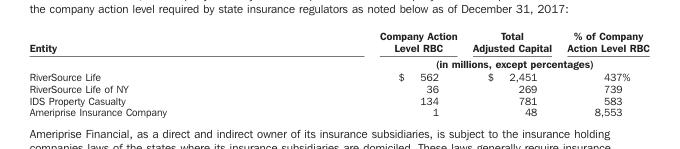table: (28, 28, 648, 117)
table column: (28, 28, 272, 117), (272, 28, 464, 117), (464, 28, 558, 117), (558, 28, 648, 117)
table column header: (28, 28, 648, 70)
table row: (28, 28, 648, 55), (28, 55, 648, 70), (28, 70, 648, 82), (28, 93, 648, 105), (28, 105, 648, 117), (28, 82, 648, 93)
table spanning cell: (28, 28, 272, 70), (272, 55, 648, 70)
